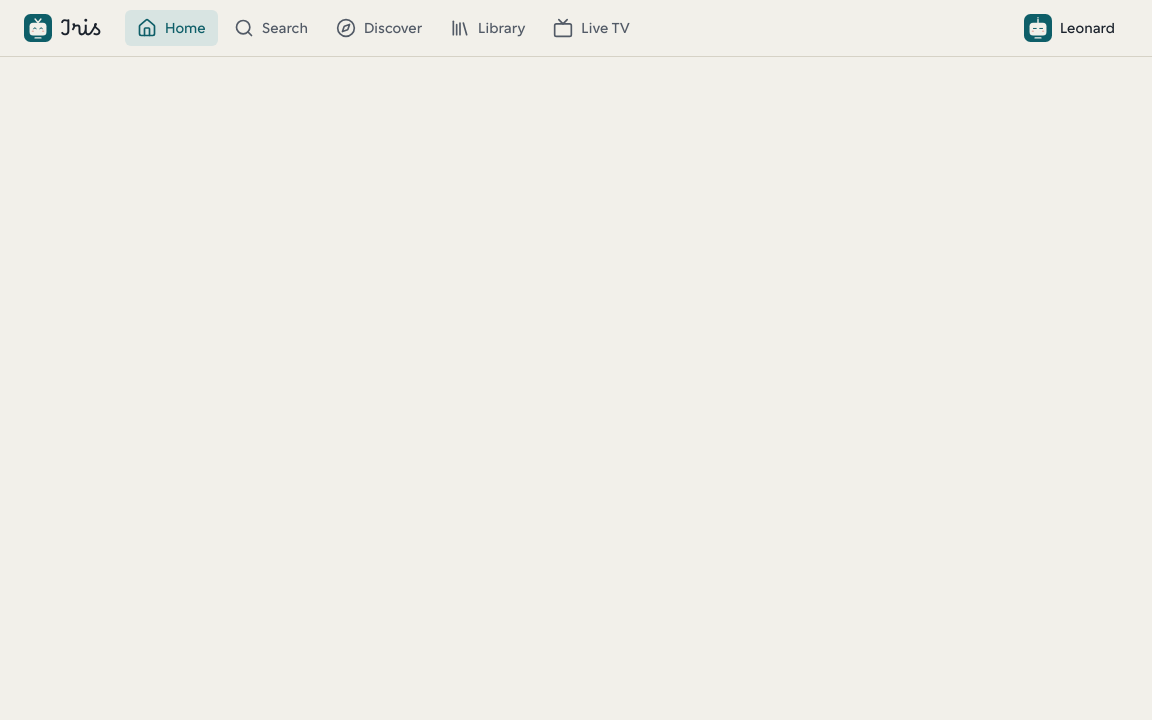
Test case: Header › shows admin to an admin
Click the button with aria-label "Leonard: account, theme, sign out" at (1070, 28), box left=1011, top=10, right=1128, bottom=46
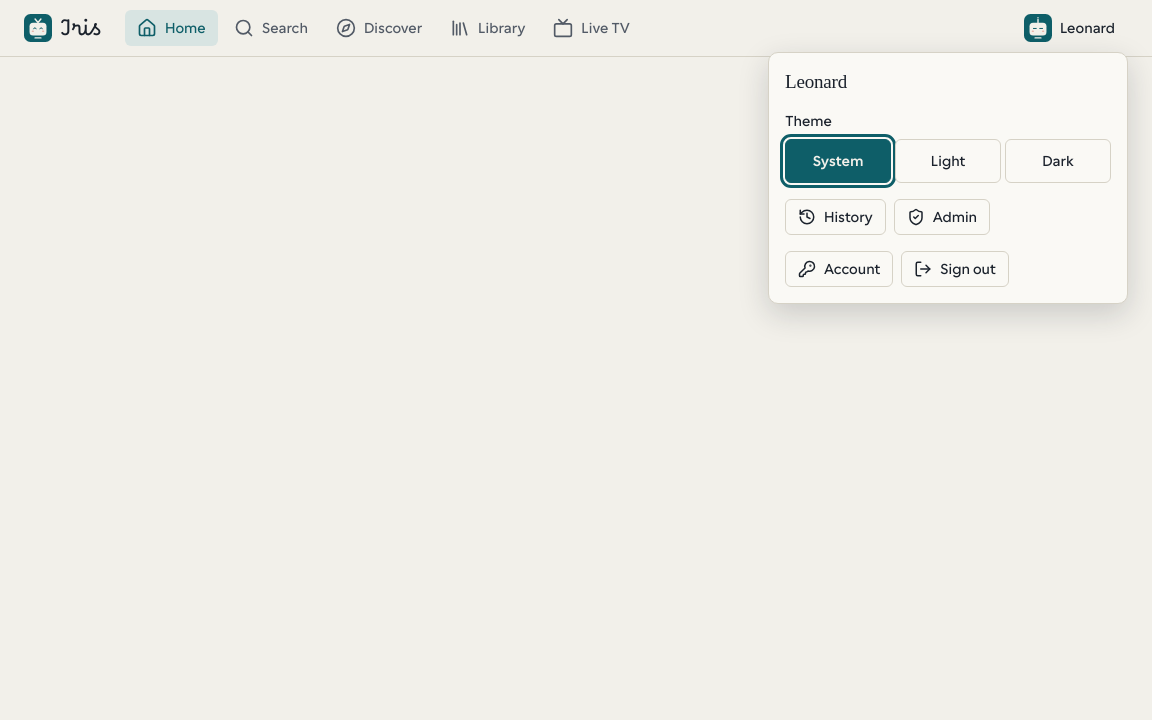
Expected: the link "Admin" is shown, left=894, top=199, right=990, bottom=235
